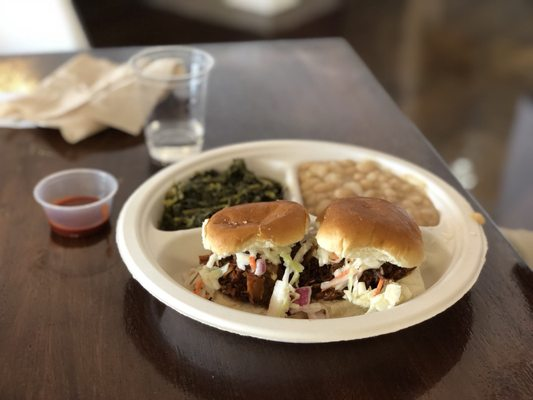pizza: (129, 47, 216, 169), (32, 168, 119, 242)
soup: (301, 197, 427, 313)
sushi: (115, 142, 492, 344)
